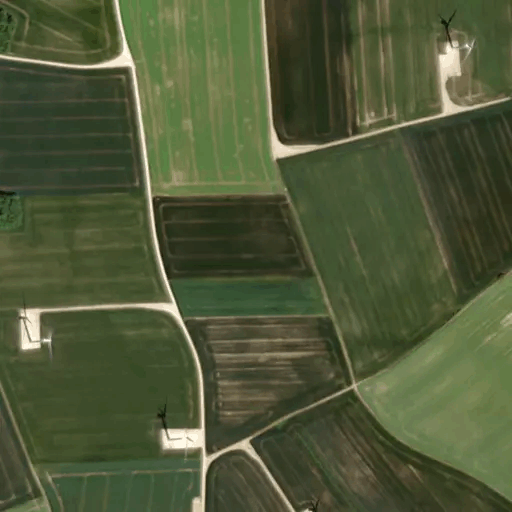wt: (152, 398, 198, 460), (18, 295, 59, 360), (437, 9, 475, 62)
